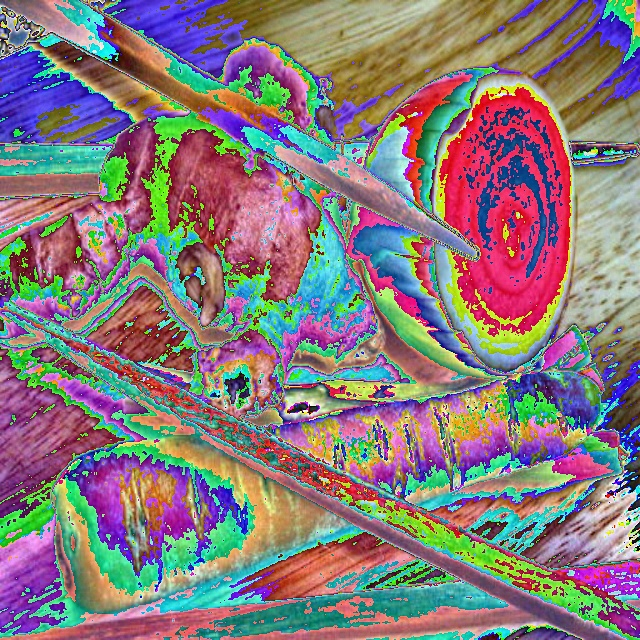background: (0, 65, 630, 506), (52, 185, 358, 614), (115, 37, 337, 149), (0, 32, 39, 341)
